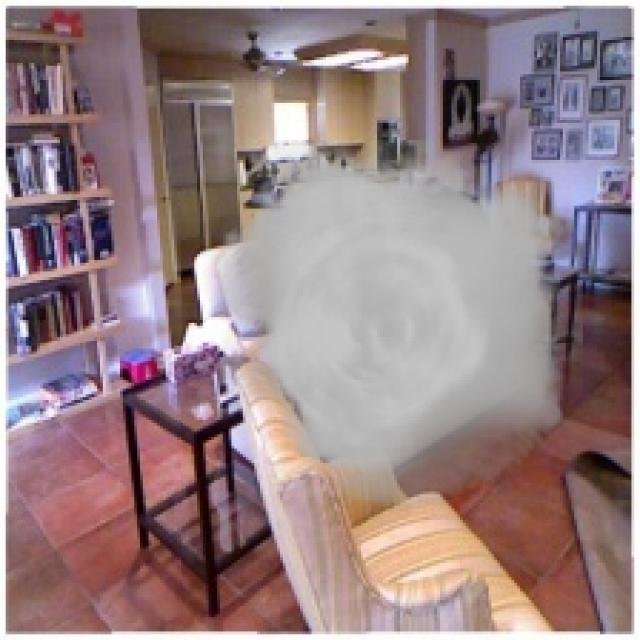smoke: (203, 140, 583, 509)
